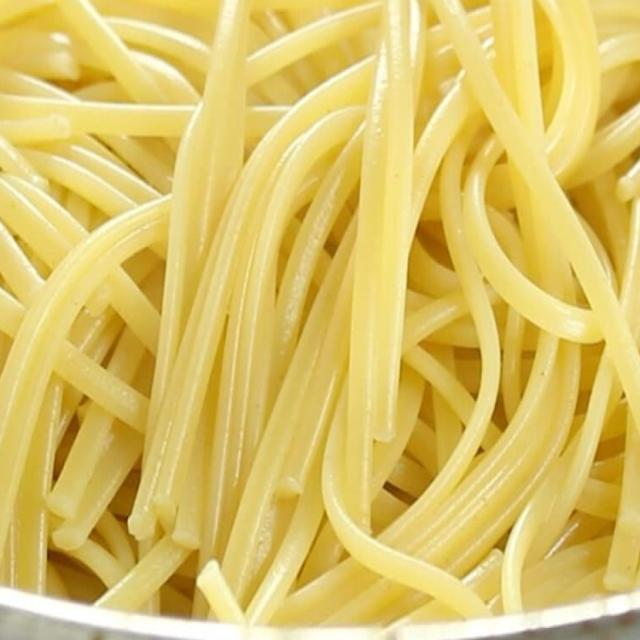pasta: (6, 6, 636, 632)
